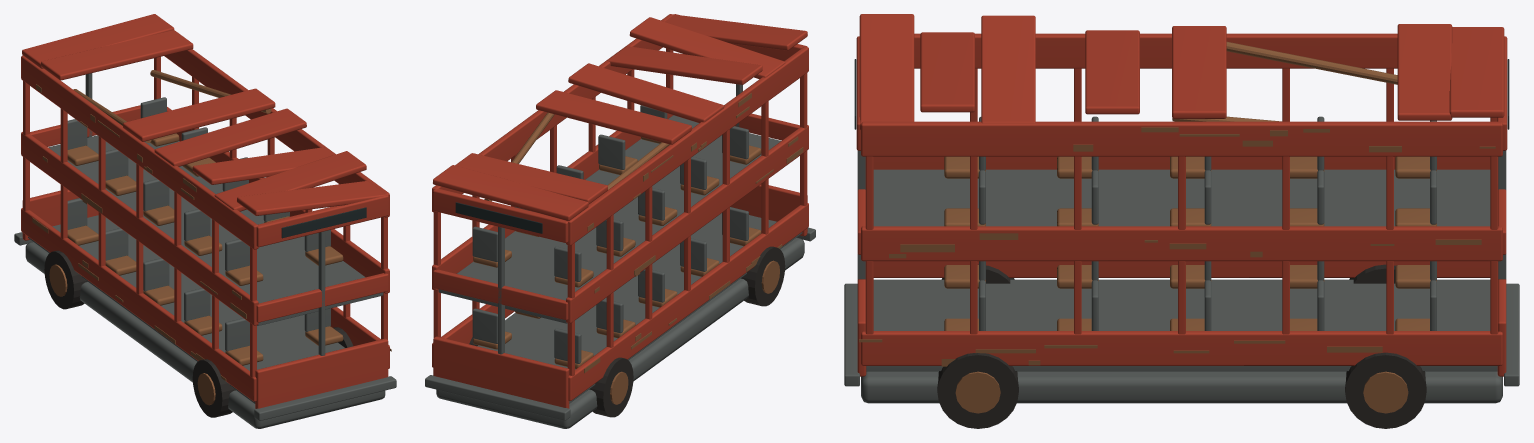
The model's file is BusWreck.fbx.
3 views of the same model, side by side, from view 1: azimuth 30°, elevation 25°; view 2: azimuth 150°, elevation 25°; view 3: azimuth 270°, elevation 25° (orthographic). The views are drawn at different scales.
Visible parts, largest first — view 1: BusWreck; view 2: BusWreck; view 3: BusWreck.
Part boxes in pixels (x1,y1,x2,y2): BusWreck: (14, 14, 396, 428); BusWreck: (425, 14, 815, 428); BusWreck: (844, 14, 1519, 428).
Size of the model in its own units: 2.7 by 4.11 by 7.78.
